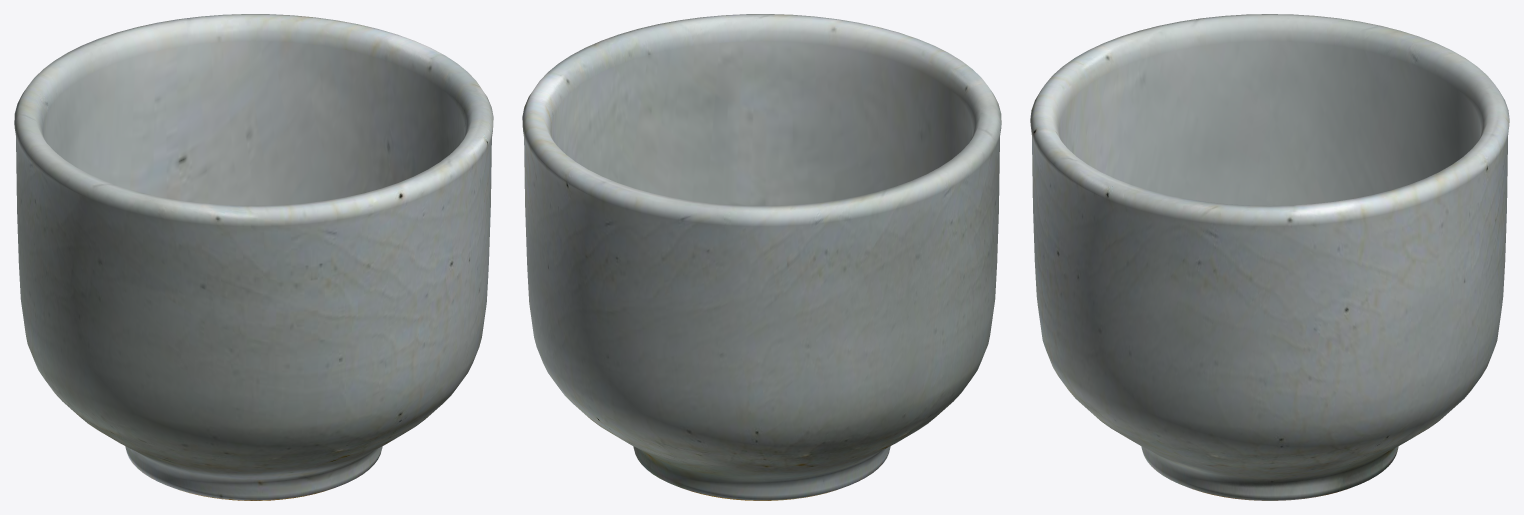
Rendered from unhyun_cup.glb.
3 views of the same model, side by side, from view 1: azimuth 30°, elevation 25°; view 2: azimuth 150°, elevation 25°; view 3: azimuth 270°, elevation 25° (orthographic).
Parts seen in each view (by area): view 1: SM_WhitePorcelainCup_M_WhitePorcelainCup_0; view 2: SM_WhitePorcelainCup_M_WhitePorcelainCup_0; view 3: SM_WhitePorcelainCup_M_WhitePorcelainCup_0.
Boxes of the visible parts, x1,y1,x2,y2 form: SM_WhitePorcelainCup_M_WhitePorcelainCup_0: (14, 14, 493, 500); SM_WhitePorcelainCup_M_WhitePorcelainCup_0: (522, 14, 1001, 500); SM_WhitePorcelainCup_M_WhitePorcelainCup_0: (1030, 14, 1509, 500).
Bounding box in the file's own units: 0.0733 × 0.057 × 0.0733.
1 material, 1 textured.
